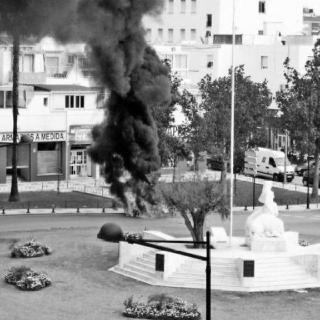other: (36, 79, 92, 97)
